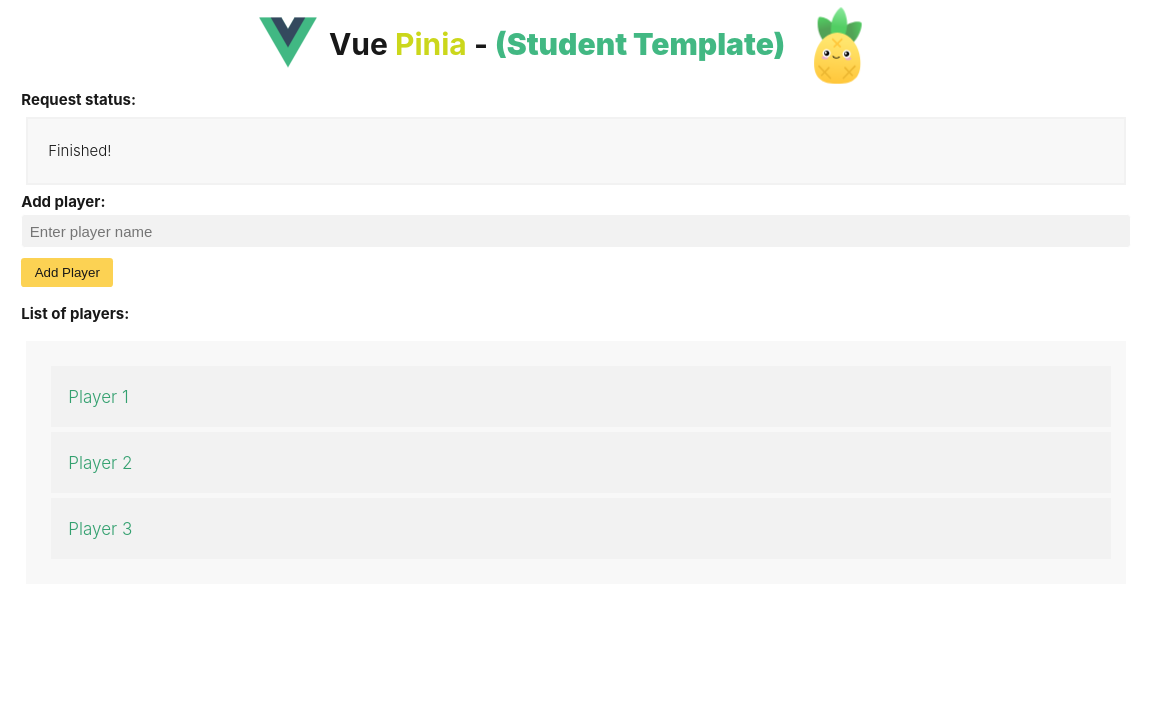
Scenario: Requests: DELETE › should not delete a player if DELETE-request fails
This screenshot has width=1152, height=720.
Step 1. Click the link "Player 2" → (100, 462), box x1=51 y1=432 x2=1110 y2=493
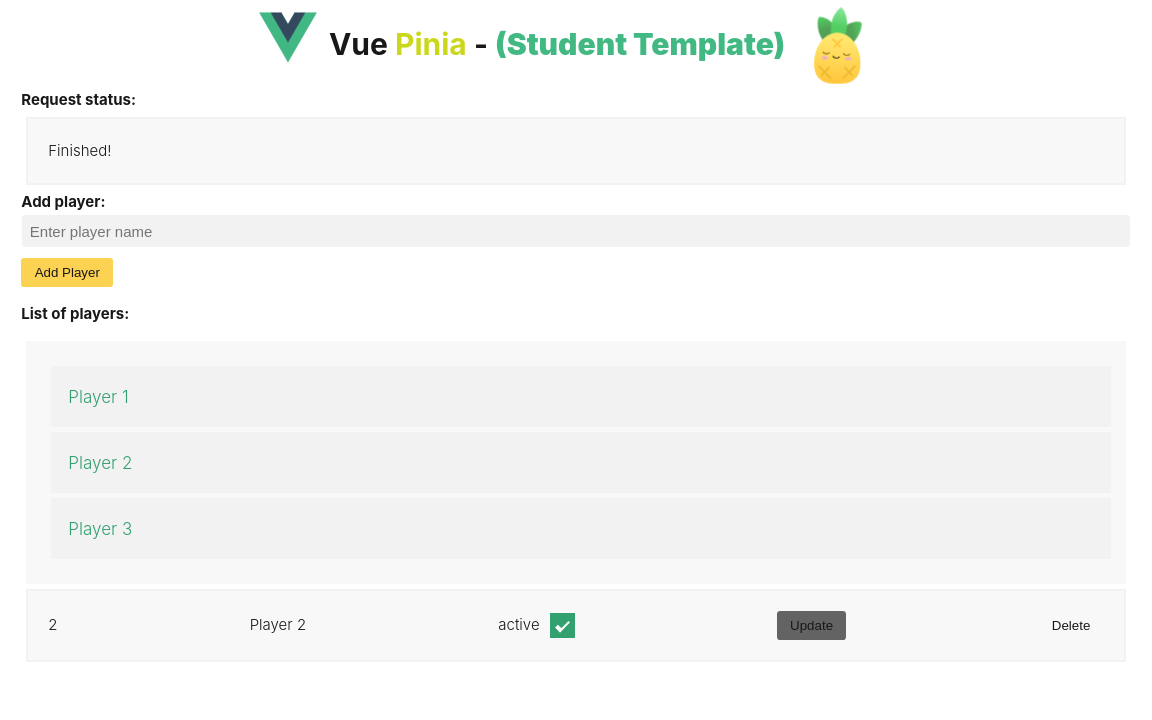
Expected: the text "Finished!" is shown, x1=26 y1=117 x2=1126 y2=185
Step 2. Click the button "Delete" → (1072, 625), box x1=1039 y1=611 x2=1104 y2=639
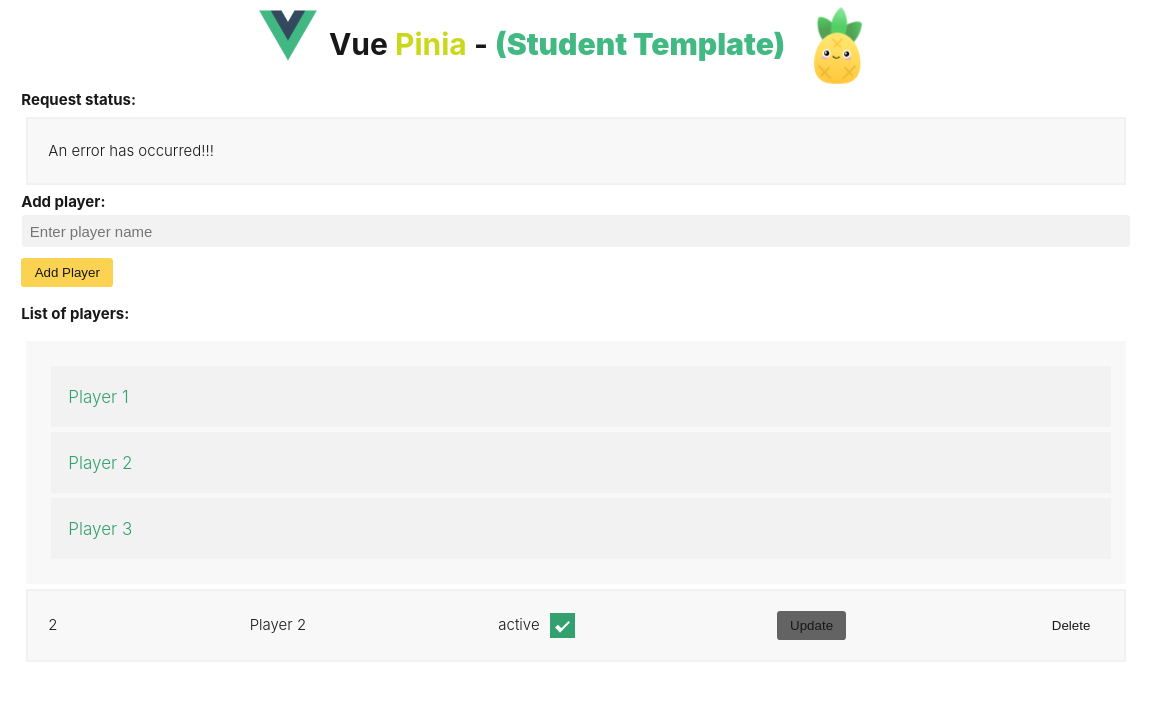
Expected: the link "Player 2" is shown, x1=51 y1=432 x2=1111 y2=493
Result: the text "An error has occurred!!!" is shown at x1=26 y1=117 x2=1126 y2=185
